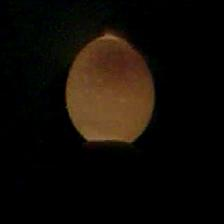infertile: (64, 34, 156, 148)
